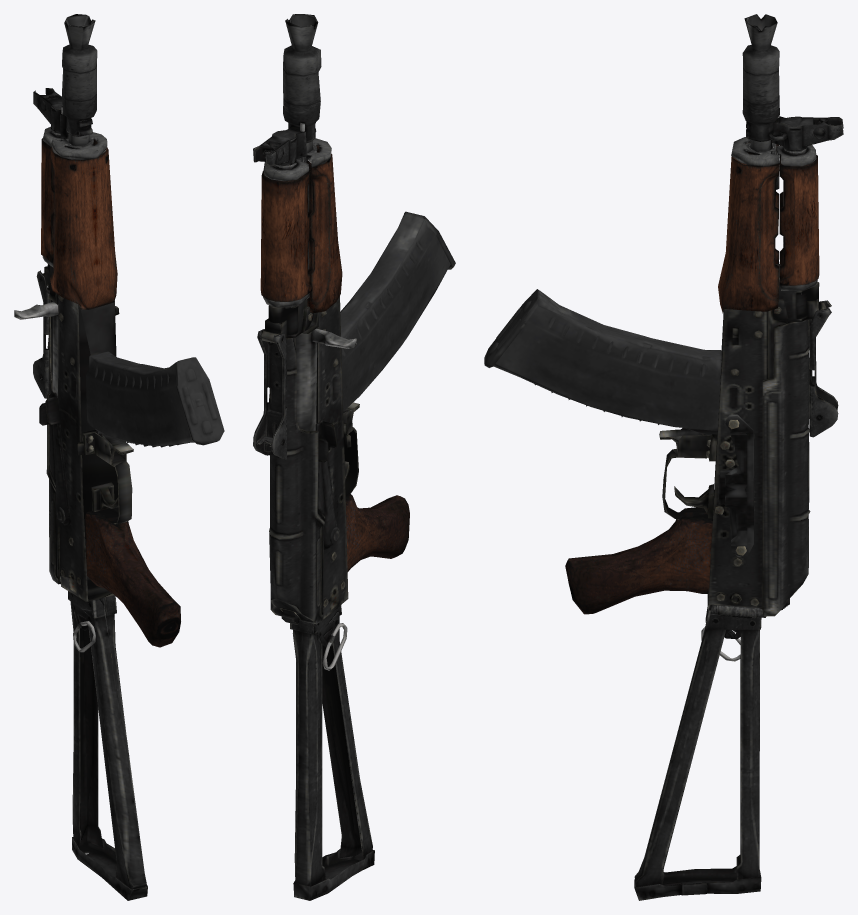
3 views of the same model, side by side, from view 1: azimuth 30°, elevation 25°; view 2: azimuth 150°, elevation 25°; view 3: azimuth 270°, elevation 25° (orthographic). The views are drawn at different scales.
Visible parts, largest first — view 1: AK74U; view 2: AK74U; view 3: AK74U.
Boxes of the visible parts, box(x1,y1,x2,y2) form: AK74U: box(14, 14, 224, 900); AK74U: box(253, 14, 455, 900); AK74U: box(484, 14, 843, 900).
Size of the model in its own units: 0.0454 by 0.4277 by 0.159.
